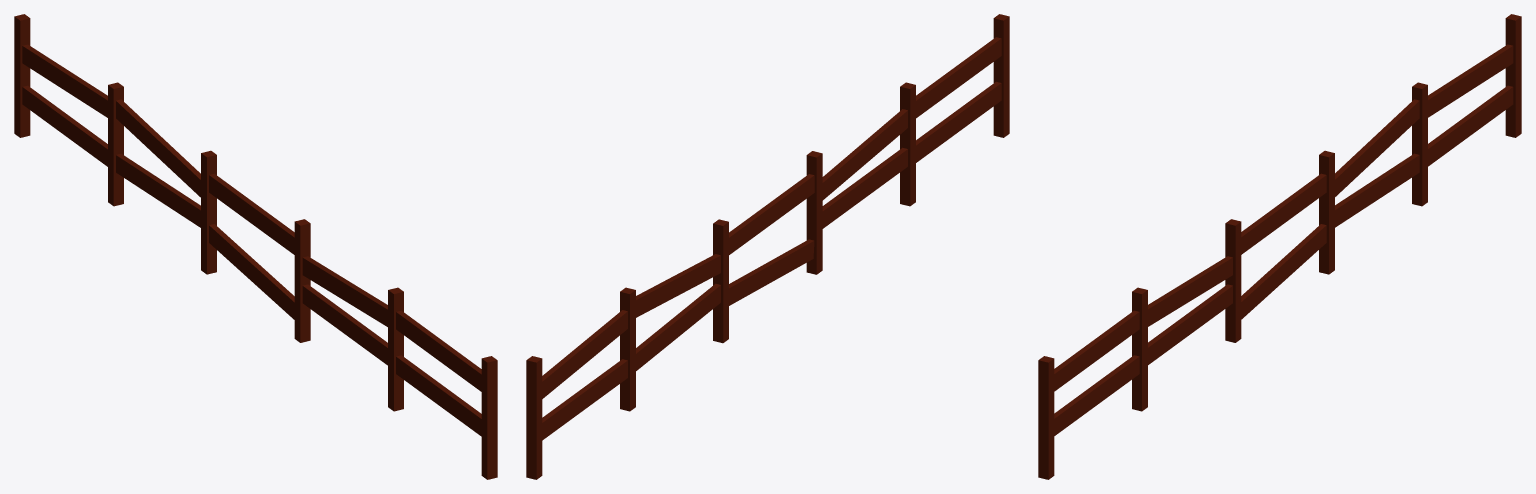
Rendered from fence.fbx.
3 views of the same model, side by side, from view 1: azimuth 30°, elevation 25°; view 2: azimuth 150°, elevation 25°; view 3: azimuth 330°, elevation 25° (orthographic).
Parts seen in each view (by area): view 1: pCube96, pCube99, pCube92, pCube106, pCube94, pCube86, pCube88, pCube101, pCube87, pCube100, pCube89; view 2: pCube94, pCube106, pCube92, pCube96, pCube99, pCube101, pCube88, pCube86, pCube89, pCube100, pCube87; view 3: pCube96, pCube99, pCube92, pCube106, pCube94, pCube86, pCube88, pCube101, pCube87, pCube89, pCube100.
Boxes of the visible parts, left/top/right/bottom form: pCube96: left=209, top=173, right=294, bottom=319; pCube99: left=116, top=99, right=200, bottom=227; pCube92: left=396, top=310, right=481, bottom=436; pCube106: left=22, top=44, right=107, bottom=166; pCube94: left=302, top=256, right=387, bottom=365; pCube86: left=481, top=356, right=497, bottom=479; pCube88: left=294, top=219, right=310, bottom=342; pCube101: left=14, top=14, right=30, bottom=137; pCube87: left=388, top=287, right=403, bottom=411; pCube100: left=108, top=82, right=123, bottom=206; pCube89: left=201, top=150, right=216, bottom=274; pCube94: left=822, top=109, right=907, bottom=228; pCube106: left=542, top=310, right=627, bottom=440; pCube92: left=916, top=37, right=1001, bottom=162; pCube96: left=729, top=174, right=814, bottom=305; pCube99: left=636, top=254, right=720, bottom=370; pCube101: left=526, top=356, right=542, bottom=479; pCube88: left=806, top=151, right=822, bottom=274; pCube86: left=993, top=14, right=1009, bottom=137; pCube89: left=713, top=219, right=728, bottom=343; pCube100: left=620, top=287, right=635, bottom=411; pCube87: left=900, top=82, right=915, bottom=206; pCube96: left=1241, top=173, right=1326, bottom=319; pCube99: left=1335, top=99, right=1419, bottom=227; pCube92: left=1054, top=310, right=1139, bottom=435; pCube106: left=1428, top=44, right=1513, bottom=166; pCube94: left=1148, top=256, right=1232, bottom=364; pCube86: left=1038, top=356, right=1054, bottom=479; pCube88: left=1225, top=219, right=1241, bottom=342; pCube101: left=1505, top=14, right=1521, bottom=137; pCube87: left=1132, top=287, right=1147, bottom=411; pCube89: left=1319, top=150, right=1334, bottom=274; pCube100: left=1412, top=82, right=1427, bottom=206.
Size of the model in its own units: 0.0976 by 1.09 by 7.94.
